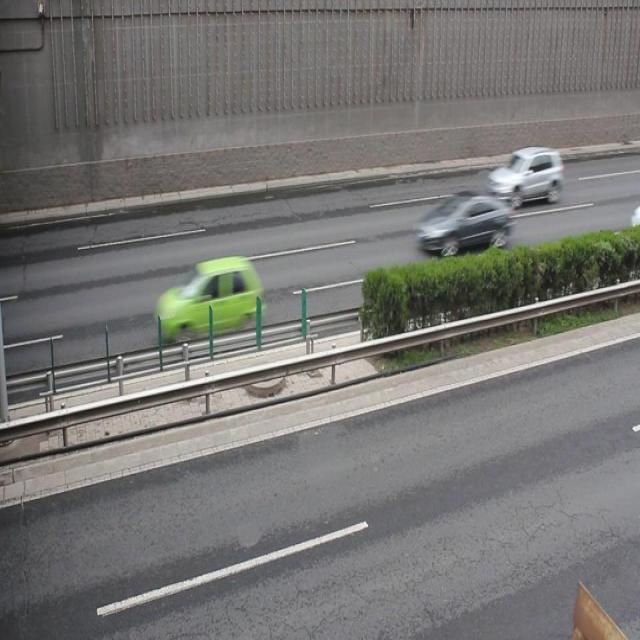car: (155, 260, 263, 338), (416, 190, 512, 256), (486, 146, 562, 201)
